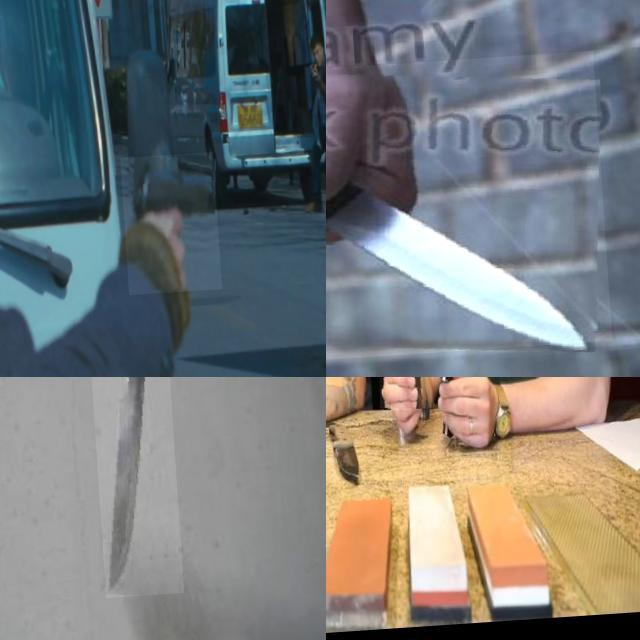-: (326, 58, 604, 373), (79, 377, 178, 602), (368, 377, 429, 444), (427, 377, 481, 451)
gun-knife-thesis - v11 Yolov5 augmented: (116, 157, 216, 299)
